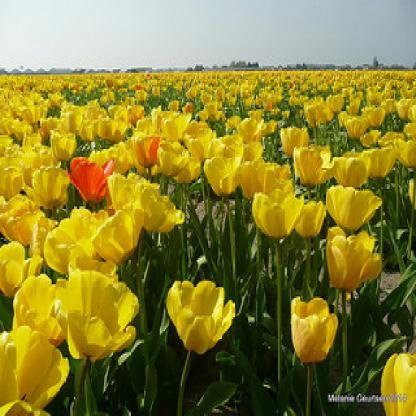TULIP: (18, 74, 409, 400)
